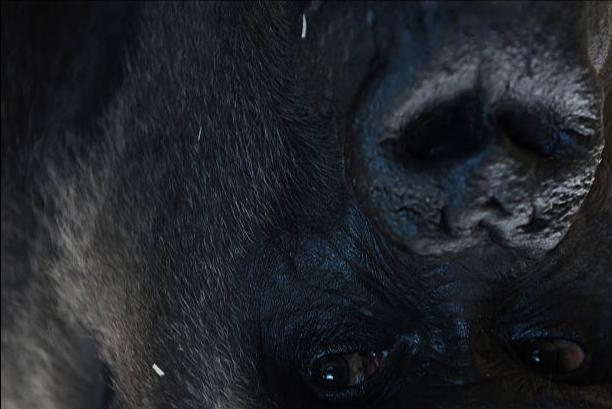gorille_Autres: (0, 8, 606, 408)
